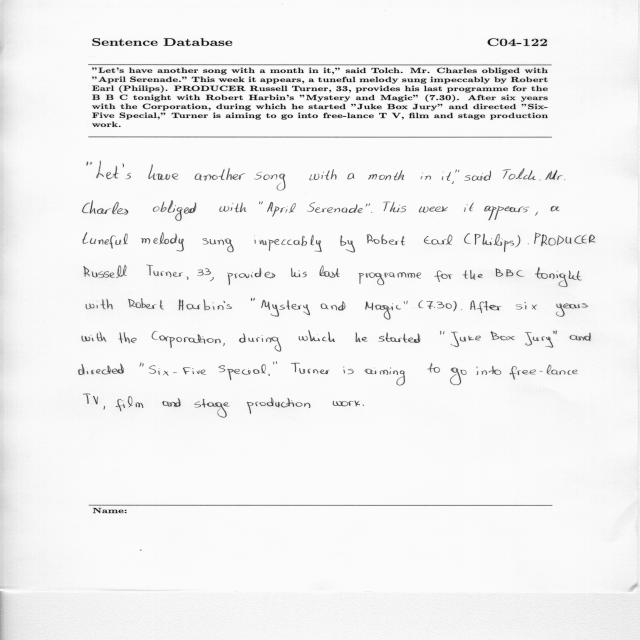word: (152, 331, 221, 348), (254, 235, 322, 252), (247, 397, 310, 414), (509, 365, 578, 380), (535, 267, 582, 287), (153, 200, 196, 221), (534, 233, 595, 247), (261, 300, 310, 317), (141, 233, 184, 252), (359, 272, 421, 285), (82, 232, 128, 249), (218, 364, 266, 380), (239, 334, 281, 352), (475, 234, 515, 252), (365, 368, 405, 386), (366, 301, 402, 320), (83, 200, 128, 215), (195, 399, 230, 418), (195, 168, 246, 181), (307, 202, 367, 213), (149, 365, 207, 376), (484, 206, 529, 220), (178, 300, 232, 311), (255, 172, 286, 191), (84, 265, 127, 278), (79, 363, 124, 375), (149, 164, 178, 180), (378, 332, 420, 343), (234, 268, 275, 279), (451, 332, 481, 347), (556, 303, 588, 317), (525, 332, 553, 348), (146, 265, 183, 277), (267, 202, 296, 217), (203, 238, 234, 252), (129, 298, 165, 310), (299, 330, 335, 342), (291, 363, 330, 374), (367, 235, 405, 246), (470, 301, 502, 314), (96, 161, 119, 179), (116, 396, 143, 411), (503, 168, 536, 180), (368, 170, 404, 180), (309, 169, 337, 180), (424, 234, 452, 245), (464, 170, 491, 181), (450, 368, 467, 385), (219, 203, 247, 213), (319, 265, 340, 278), (86, 299, 113, 309), (496, 268, 525, 277), (340, 236, 355, 253), (383, 202, 406, 213), (321, 301, 346, 311), (82, 332, 107, 342), (490, 331, 515, 340), (477, 366, 502, 375), (197, 268, 214, 281), (463, 270, 484, 280), (426, 301, 452, 309), (419, 206, 448, 213), (434, 271, 452, 282), (119, 333, 137, 344), (546, 170, 565, 180), (569, 333, 591, 341), (162, 398, 181, 407), (516, 302, 537, 310), (333, 401, 360, 407), (83, 394, 98, 404), (291, 268, 307, 277), (122, 164, 131, 179), (427, 363, 440, 373), (356, 332, 368, 342), (464, 202, 473, 212), (343, 367, 354, 375), (442, 172, 451, 181), (464, 233, 471, 244), (452, 169, 457, 184), (515, 235, 521, 247), (227, 273, 233, 285), (347, 173, 355, 180), (551, 206, 560, 211), (421, 176, 431, 180), (453, 301, 457, 311), (419, 301, 423, 309), (139, 362, 144, 367), (87, 162, 92, 166), (404, 301, 408, 305), (440, 331, 444, 335), (553, 331, 557, 335), (259, 201, 263, 204), (535, 212, 538, 216), (251, 298, 255, 301), (273, 362, 277, 365), (187, 276, 189, 280), (369, 203, 371, 206), (223, 343, 225, 346), (458, 170, 460, 172), (268, 374, 270, 376), (104, 406, 105, 410), (362, 405, 364, 406), (372, 212, 373, 213), (528, 244, 529, 245), (461, 309, 462, 310), (540, 180, 541, 180)
